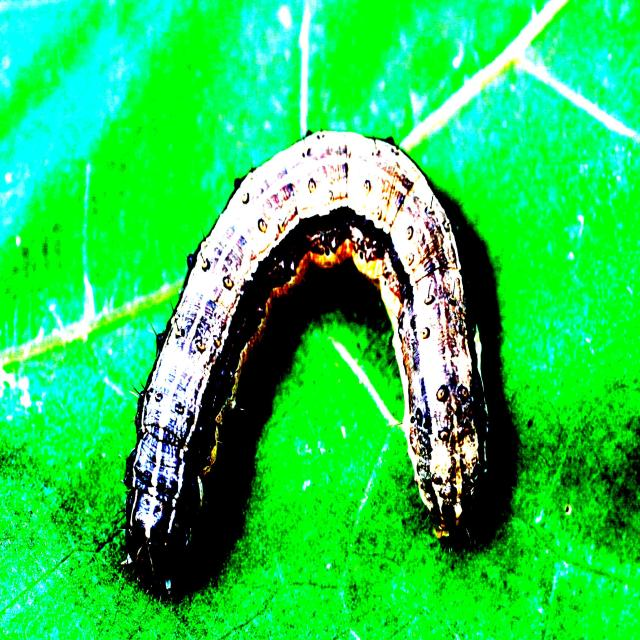Armyworm: (96, 106, 501, 611)
